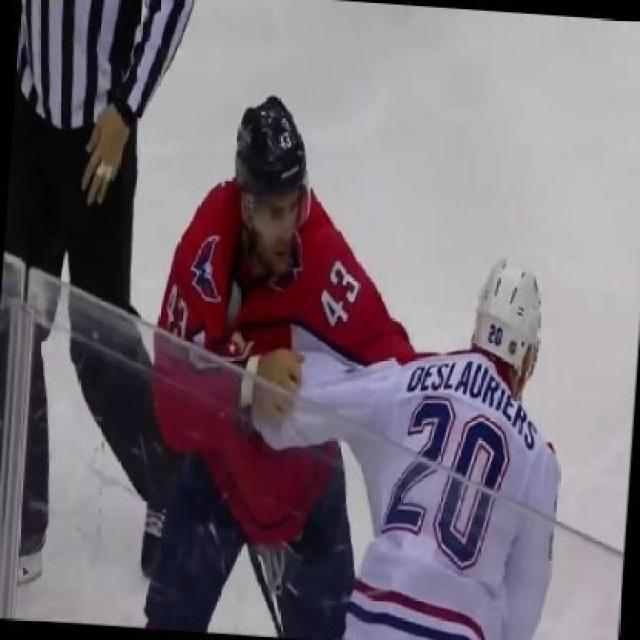fight: (152, 96, 559, 640)
non-fight: (0, 0, 171, 551)
